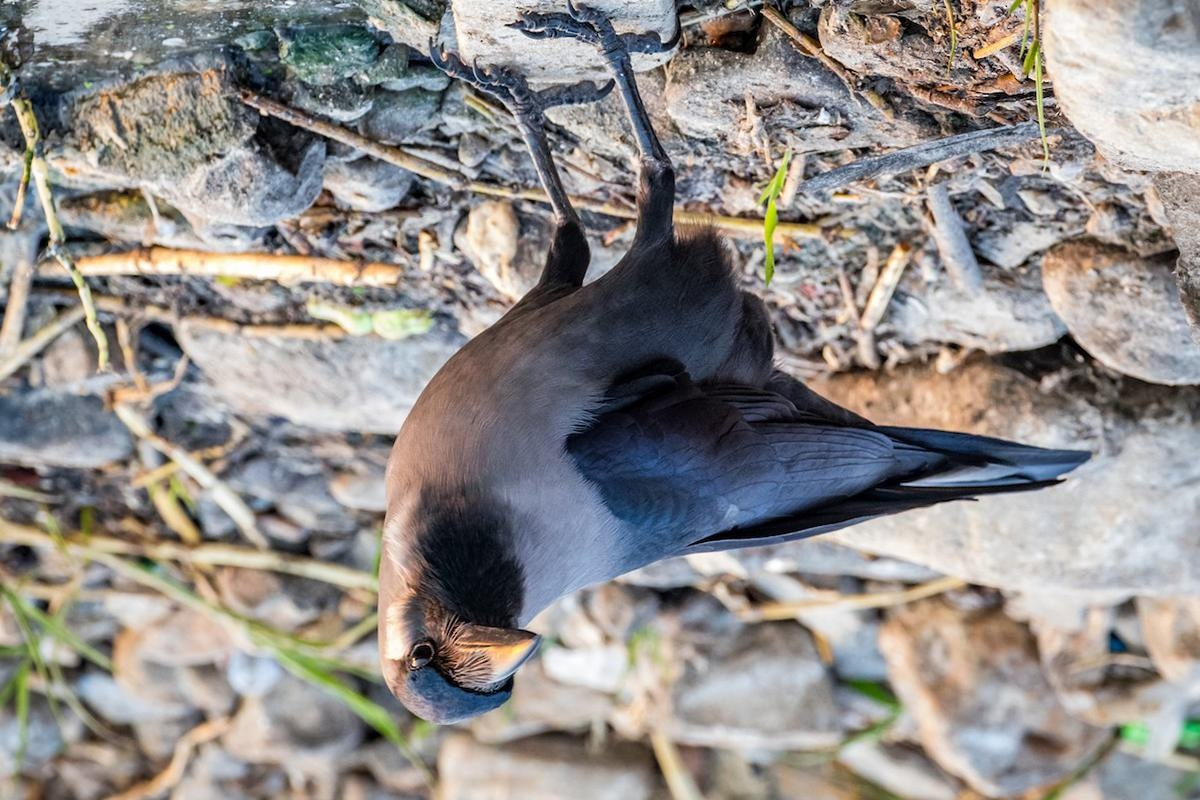crow: (368, 21, 1088, 733)
